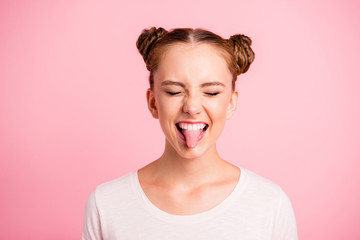teen: (134, 28, 250, 161)
